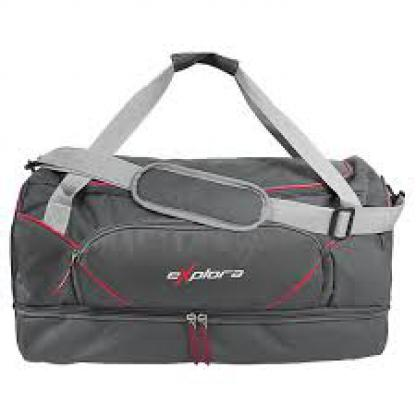morral: (7, 43, 408, 377)
